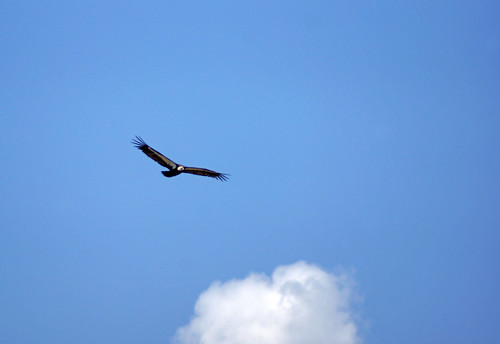bird: (123, 117, 238, 199)
